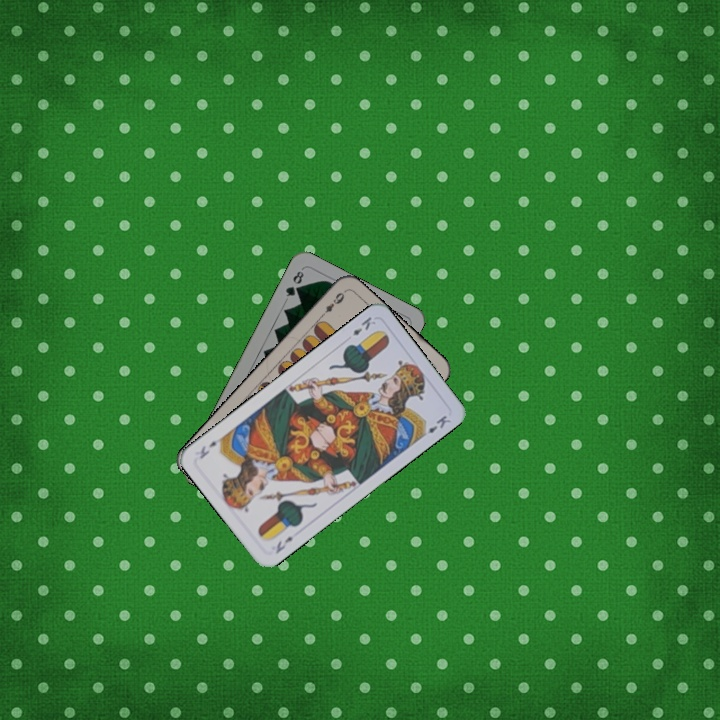E9: (316, 288, 347, 320)
EK: (348, 313, 378, 338), (271, 532, 296, 556)
G8: (281, 267, 306, 299)
